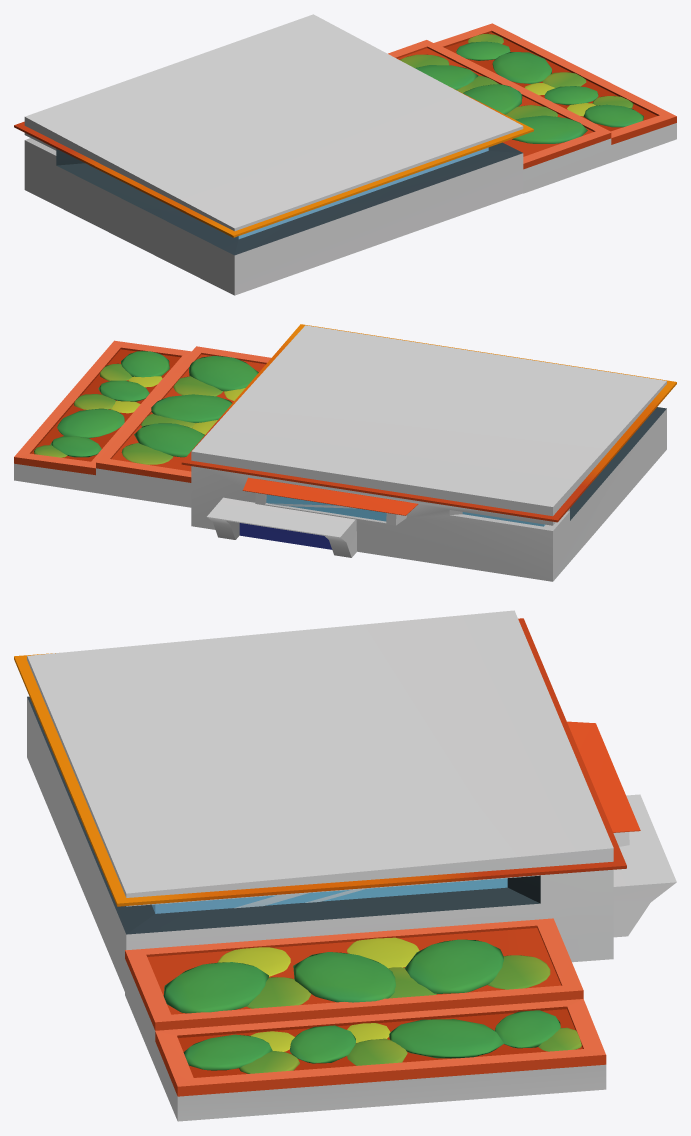
Rendered from HOUSE_LV1.FBX.
3 views of the same model, one above another, from view 1: azimuth 30°, elevation 25°; view 2: azimuth 150°, elevation 25°; view 3: azimuth 270°, elevation 25° (orthographic). The views are drawn at different scales.
Visible parts, largest first — view 1: LV_1; view 2: LV_1; view 3: LV_1.
Boxes of the visible parts, left/top/right/bottom form: LV_1: left=14, top=14, right=676, bottom=295; LV_1: left=14, top=324, right=676, bottom=581; LV_1: left=14, top=610, right=676, bottom=1121.
Size of the model in its own units: 26.91 by 3.43 by 18.58.
Materials: 1 (1 with a texture image).
